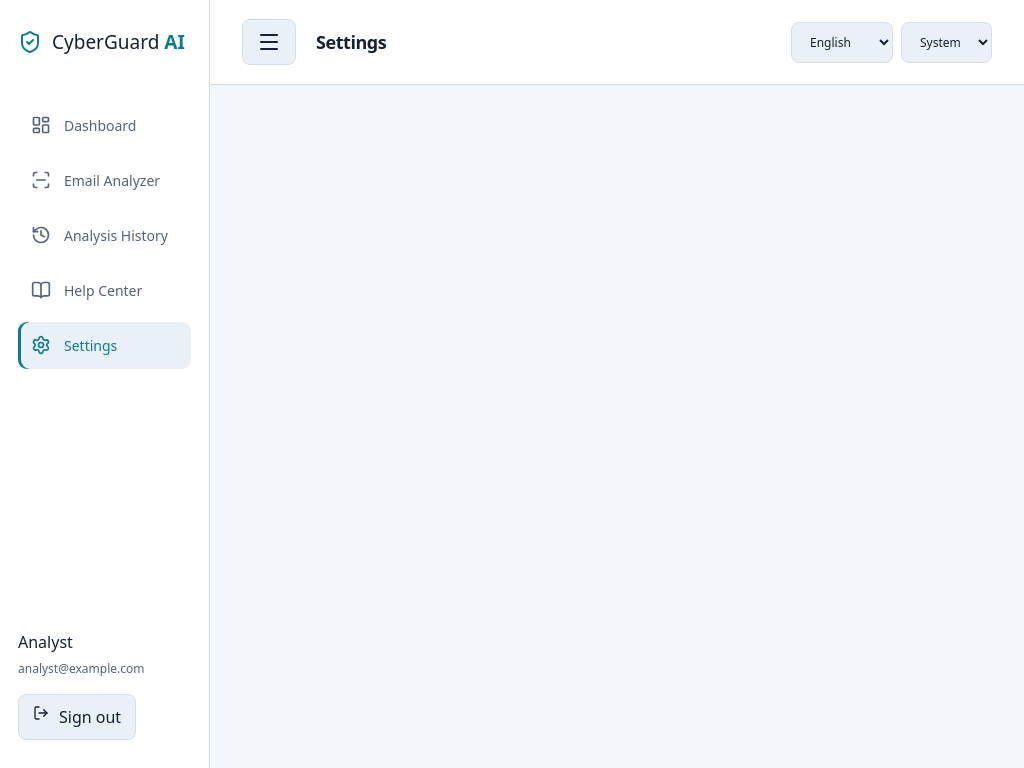
Test case: authentication flows › logs out and returns to login
The width and height of the screenshot is (1024, 768).
Click the button "Sign out": (77, 717) [18,694,136,740]
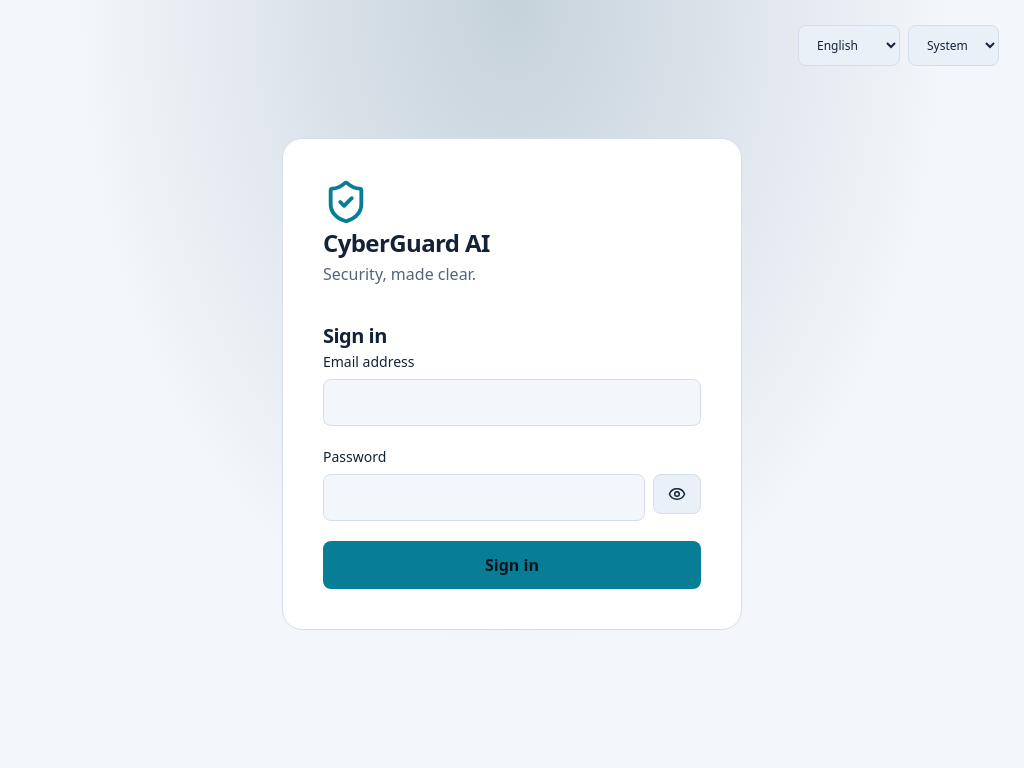
Now the button "Sign in" is shown, box [323,541,701,589]
